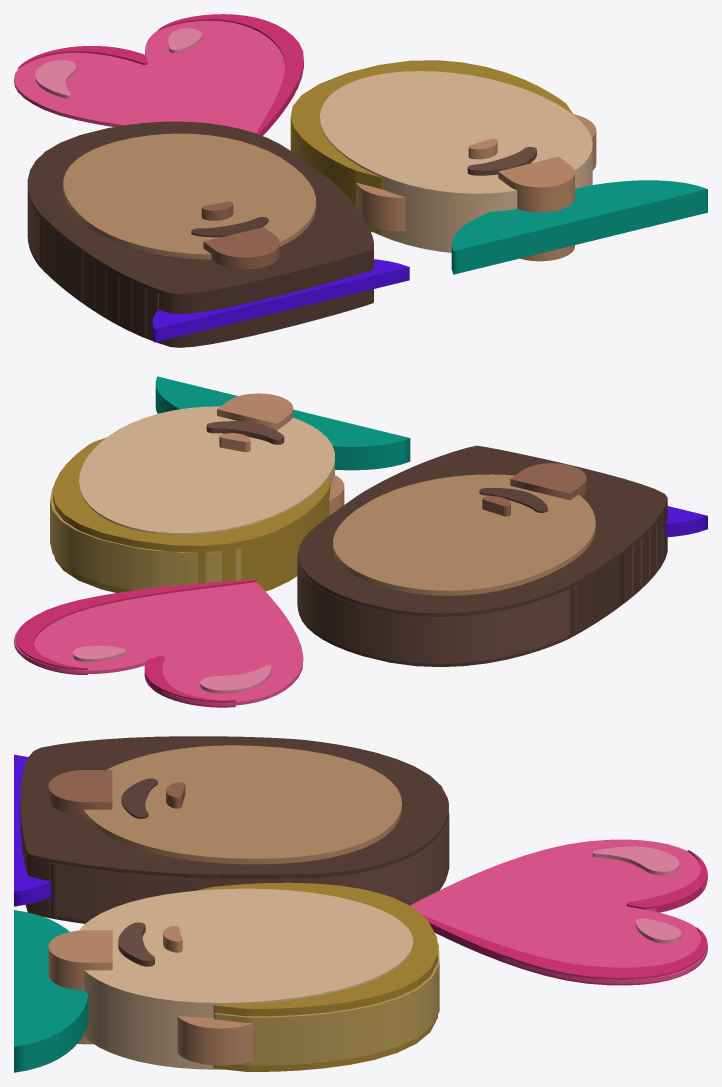
The model's file is emoji_u1f469_1f3fd_200d_2764_200d_1f468_1f3fc.glb.
3 renders of one model, top to bottom at view 1: azimuth 30°, elevation 25°; view 2: azimuth 150°, elevation 25°; view 3: azimuth 270°, elevation 25°, orthographic. The views are drawn at different scales.
Parts seen in each view (by area): view 1: emoji_u1f469_1f3fd_200d_2764_200d_1f468_1f3fc; view 2: emoji_u1f469_1f3fd_200d_2764_200d_1f468_1f3fc; view 3: emoji_u1f469_1f3fd_200d_2764_200d_1f468_1f3fc.
Part boxes in pixels (x1=…): emoji_u1f469_1f3fd_200d_2764_200d_1f468_1f3fc: x1=14, y1=14, x2=707, y2=347; emoji_u1f469_1f3fd_200d_2764_200d_1f468_1f3fc: x1=14, y1=376, x2=707, y2=707; emoji_u1f469_1f3fd_200d_2764_200d_1f468_1f3fc: x1=14, y1=736, x2=707, y2=1072.
Bounding box in the file's own units: 0.0345 × 0.005 × 0.0339.
